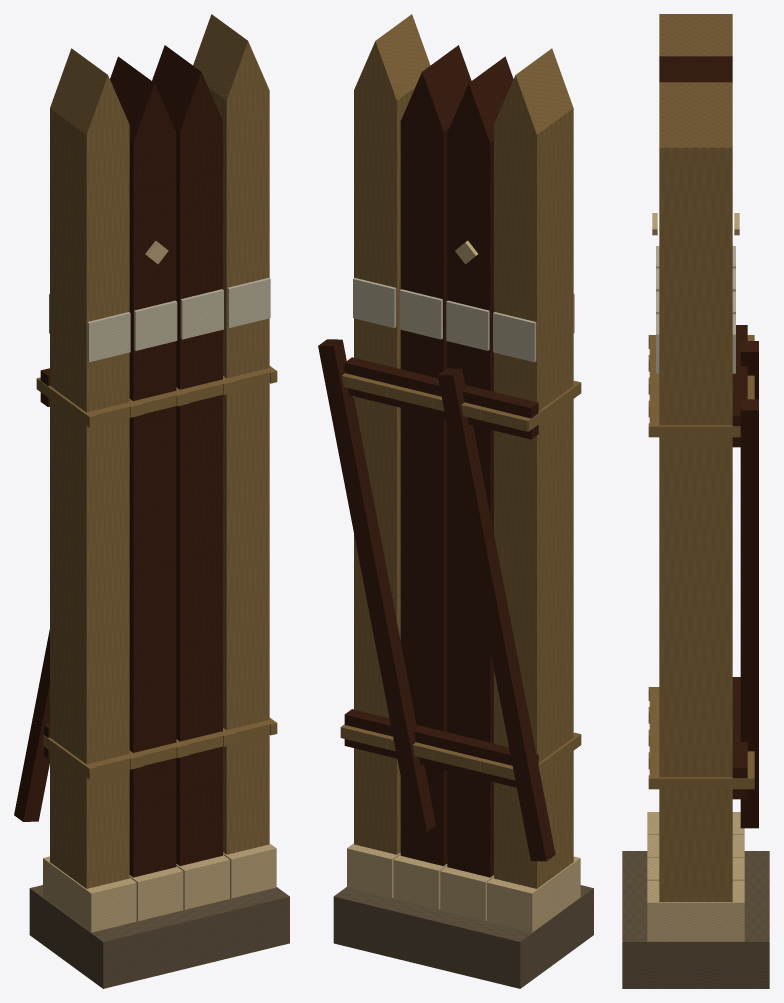
The model's file is Berber_Palisade_Age4_gapfill_1m.fbx.
3 renders of one model, left to right at view 1: azimuth 30°, elevation 25°; view 2: azimuth 150°, elevation 25°; view 3: azimuth 270°, elevation 25°, orthographic.
Visible parts, largest first — view 1: palm_split_post.017, palm_split_post.023, palm_split_post.022, palm_split_post.020, earth_seat.003, post_earth_socket.003, neutral_owner_band.003, front_lashing.003, lashing_side.003, back_diagonal_brace.003; view 2: palm_split_post.017, palm_split_post.022, palm_split_post.023, palm_split_post.020, back_diagonal_brace.003, earth_seat.003, post_earth_socket.003, continuous_rear_tie.003, neutral_owner_band.003, back_lashing.003, lashing_side.003; view 3: palm_split_post.023, earth_seat.003, back_diagonal_brace.003, post_earth_socket.003, lashing_side.003, palm_split_post.017, continuous_rear_tie.003, palm_split_post.020, front_lashing.003, neutral_owner_band.003, back_lashing.003.
Part boxes in pixels (x1,y1,x2,y2): palm_split_post.017: [50, 48, 129, 888]; palm_split_post.023: [193, 14, 269, 854]; palm_split_post.022: [152, 45, 222, 865]; palm_split_post.020: [110, 56, 176, 877]; earth_seat.003: [29, 885, 289, 988]; post_earth_socket.003: [43, 843, 276, 932]; neutral_owner_band.003: [49, 278, 270, 362]; front_lashing.003: [88, 369, 269, 777]; lashing_side.003: [36, 366, 277, 779]; back_diagonal_brace.003: [14, 629, 49, 821]; palm_split_post.017: [494, 48, 573, 888]; palm_split_post.022: [400, 45, 471, 865]; palm_split_post.023: [354, 14, 430, 854]; palm_split_post.020: [447, 56, 513, 877]; back_diagonal_brace.003: [318, 339, 555, 861]; earth_seat.003: [333, 885, 593, 988]; post_earth_socket.003: [347, 843, 580, 932]; continuous_rear_tie.003: [344, 357, 538, 787]; neutral_owner_band.003: [353, 278, 574, 362]; back_lashing.003: [341, 373, 529, 780]; lashing_side.003: [340, 381, 581, 774]; palm_split_post.023: [659, 82, 732, 901]; earth_seat.003: [622, 851, 769, 988]; back_diagonal_brace.003: [740, 341, 758, 828]; post_earth_socket.003: [647, 812, 744, 941]; lashing_side.003: [648, 335, 754, 789]; palm_split_post.017: [659, 14, 732, 56]; continuous_rear_tie.003: [732, 325, 747, 799]; palm_split_post.020: [659, 56, 732, 78]; front_lashing.003: [649, 335, 659, 775]; neutral_owner_band.003: [656, 246, 735, 373]; back_lashing.003: [747, 335, 754, 788].
Bounding box in the file's own units: 122 × 458 × 68.29.
Materials: 5 (5 with a texture image).
